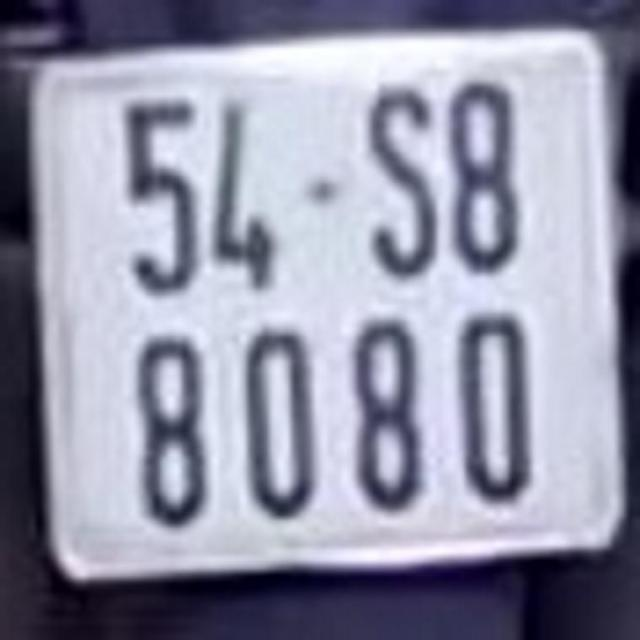0: (447, 303, 538, 512), (236, 320, 326, 522)
4: (208, 92, 282, 292)
5: (117, 90, 203, 296)
8: (448, 74, 526, 281), (349, 313, 427, 514), (130, 330, 210, 525)
S: (358, 74, 446, 285)
